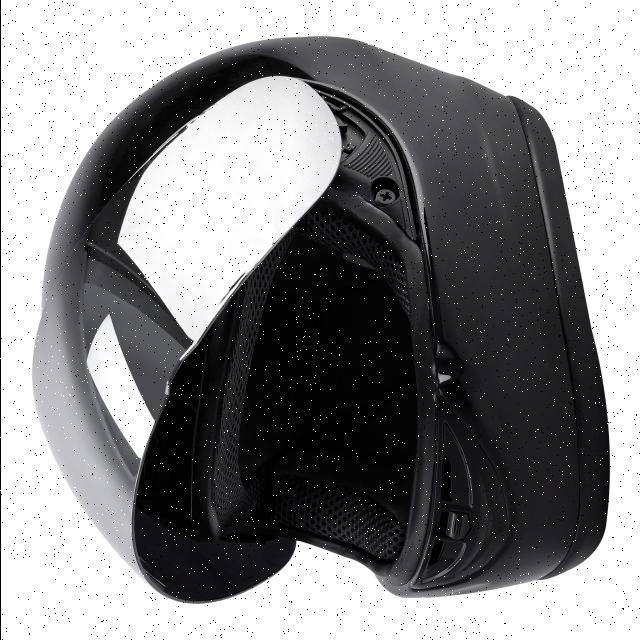Helmet: (32, 38, 608, 604)
